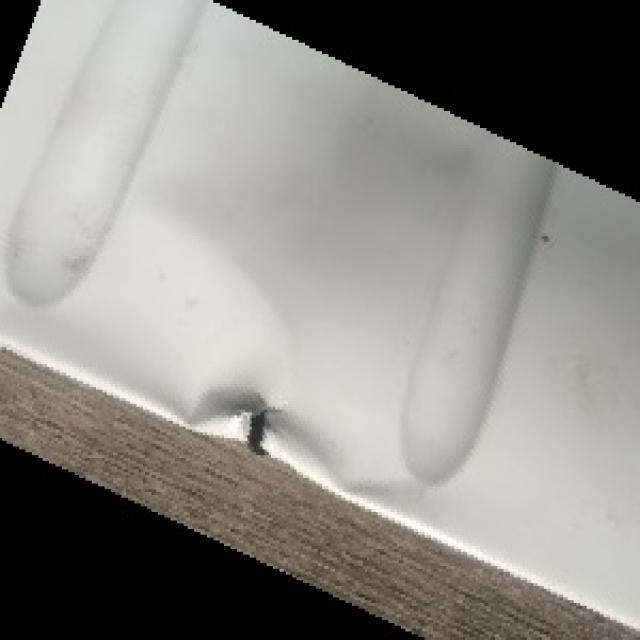crack: (227, 388, 296, 468)
